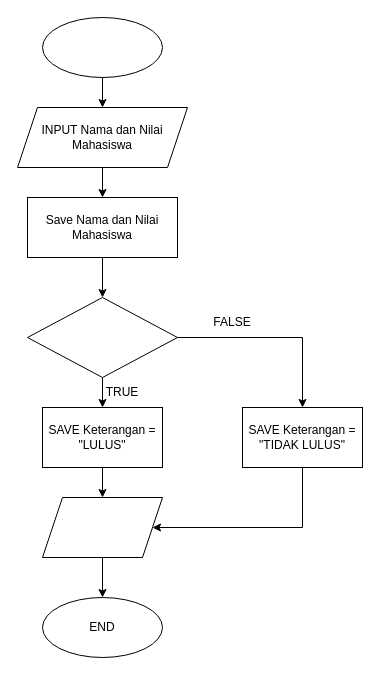
This 380x675 diagram has some shape labels left out. Here are the shapes that lost their labels. From the top down, the centre of each, then its label:
At point 102,47: "START".
At point 102,337: "IF Nilai >=60".
At point 102,527: "OUTPUT Keterangan".
